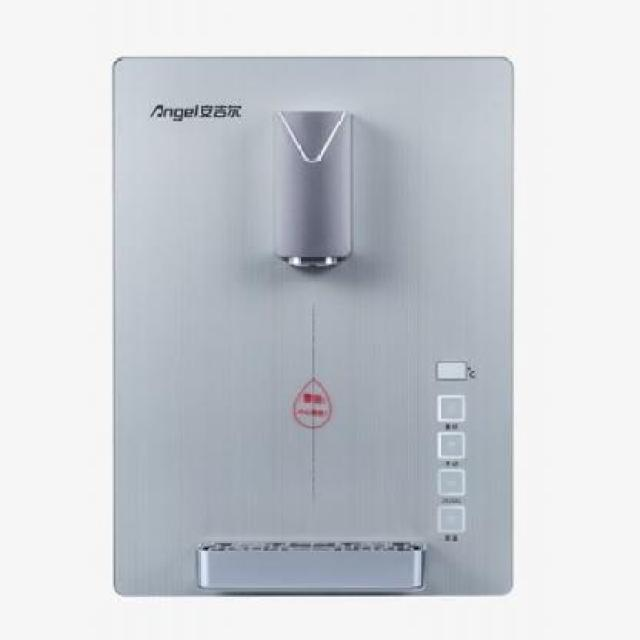cooler: (110, 51, 522, 602)
